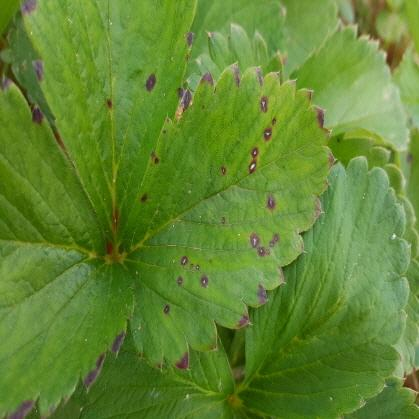Leaf Spot: (118, 61, 338, 371), (18, 0, 199, 250)
